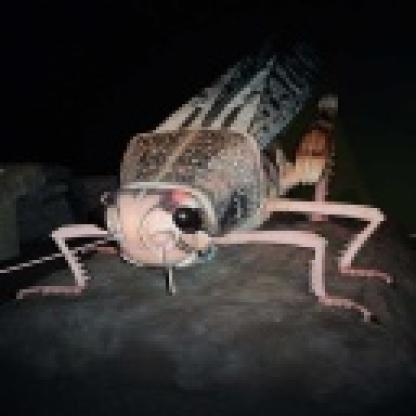grasshopper: (30, 23, 402, 324)
